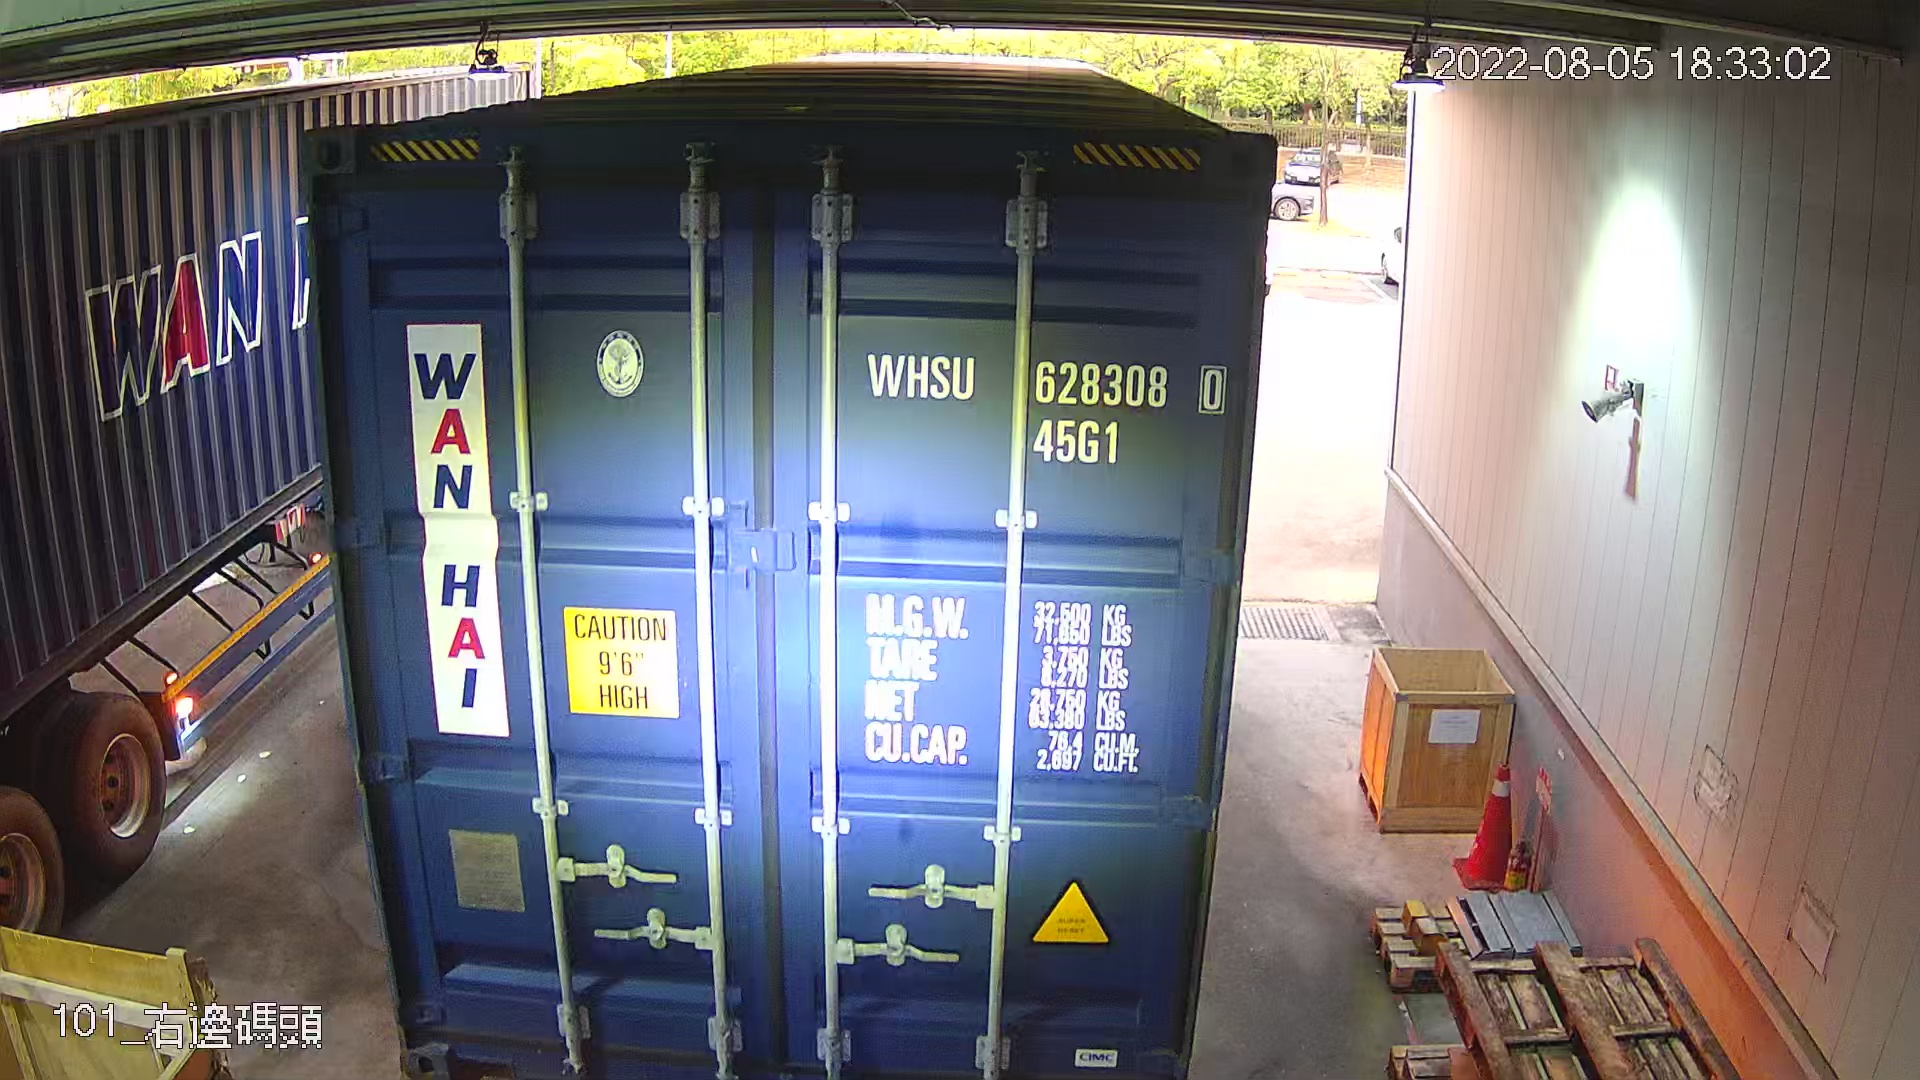container: (851, 339, 1236, 469)
